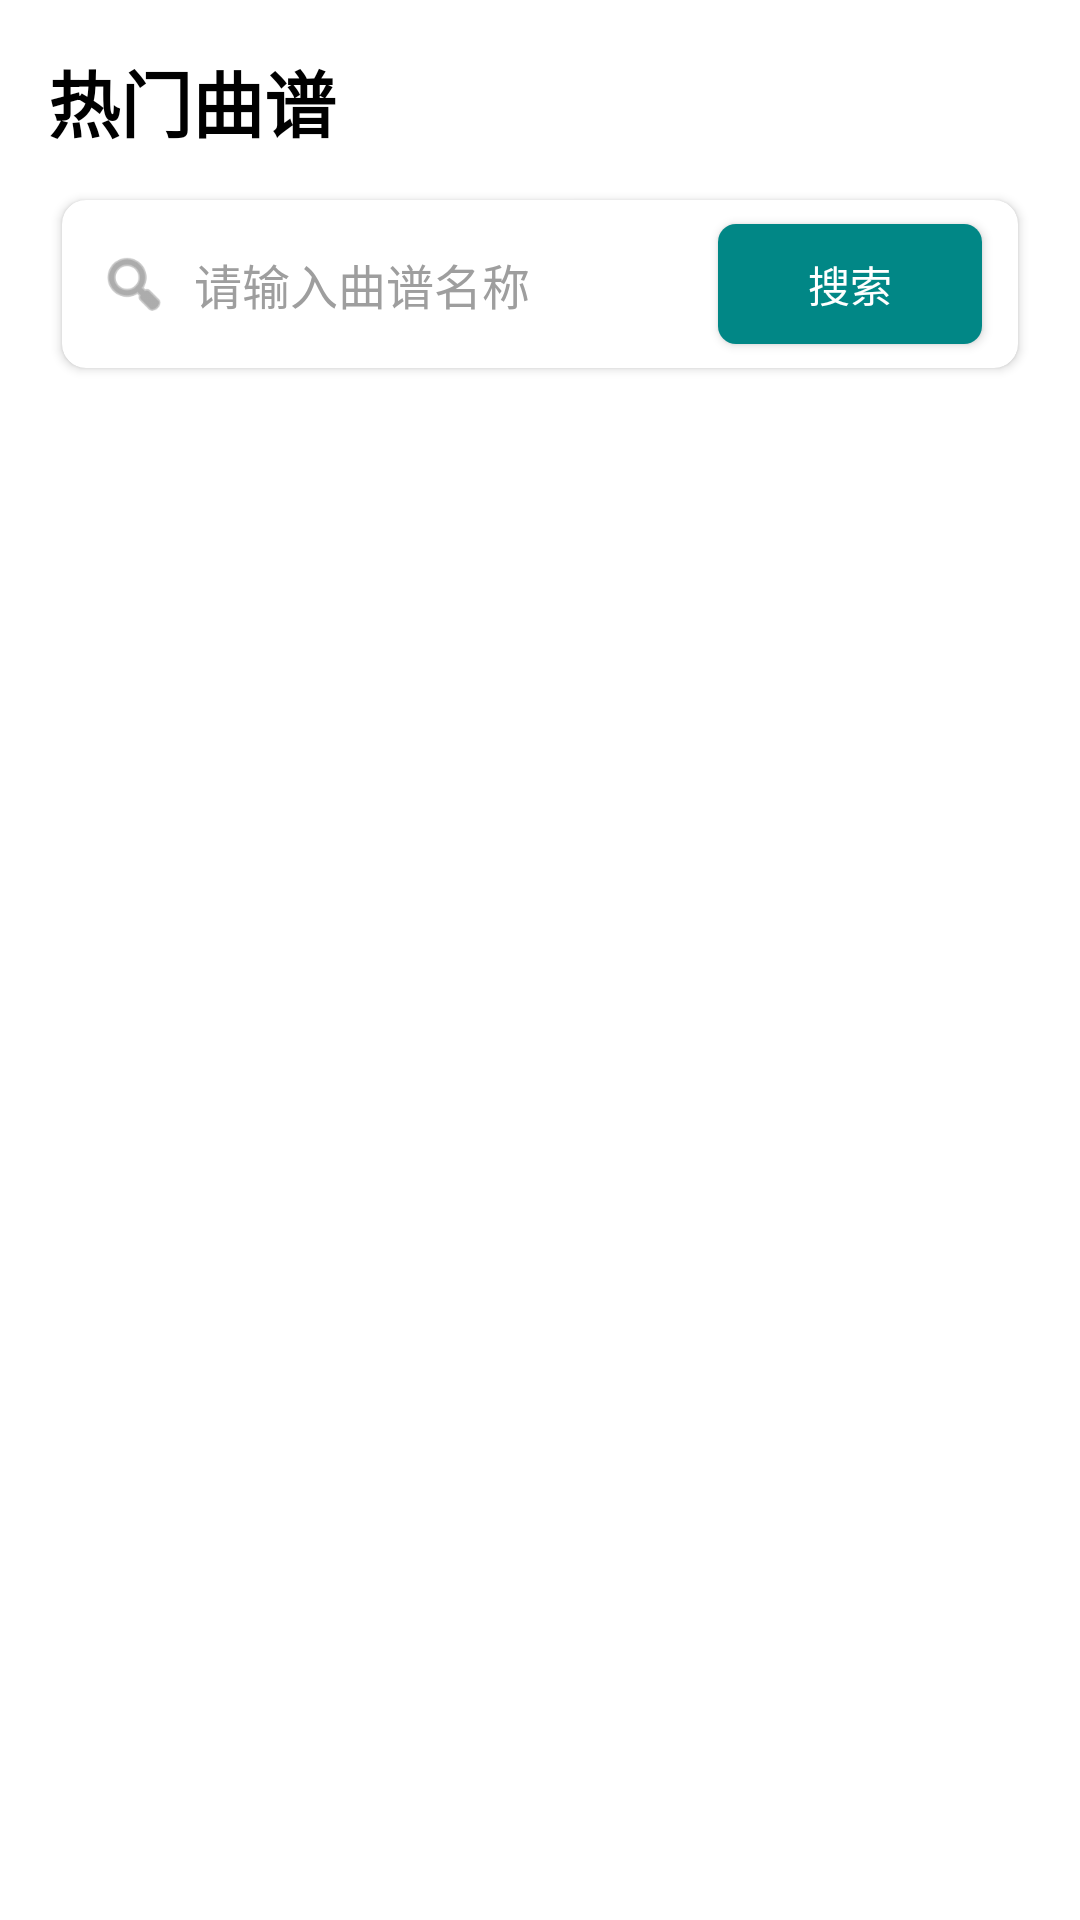

Named icons in this screenshot (1080w x 1920h) and their centers, (x=x, y=y):
search: (x=134, y=284)
